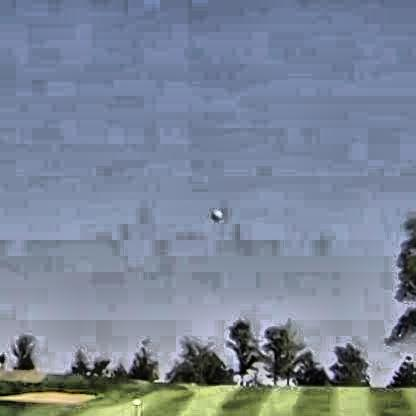golfball: (207, 207, 221, 219)
